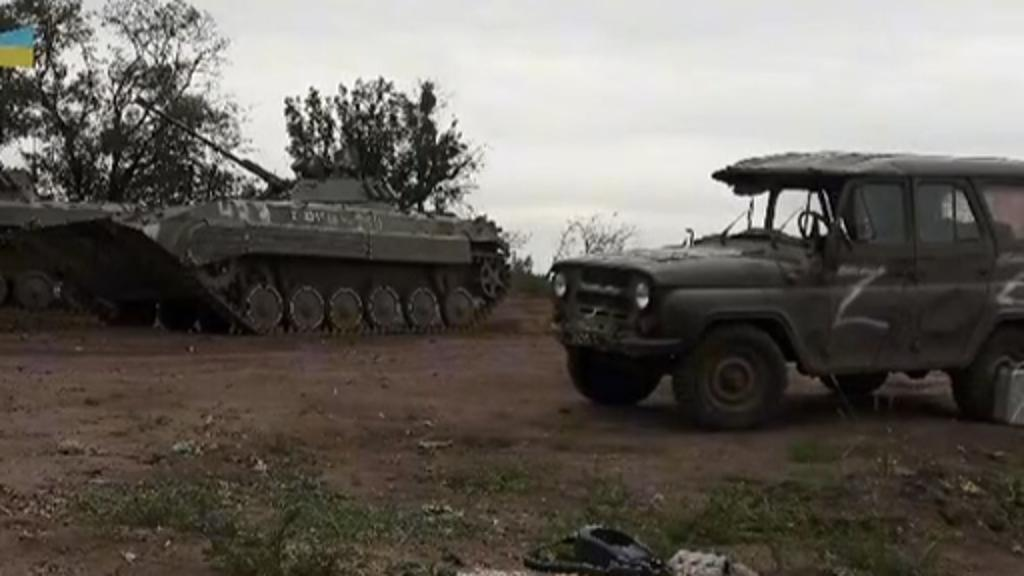APC-IFV: (24, 94, 508, 324)
CAR: (544, 124, 1022, 422)
